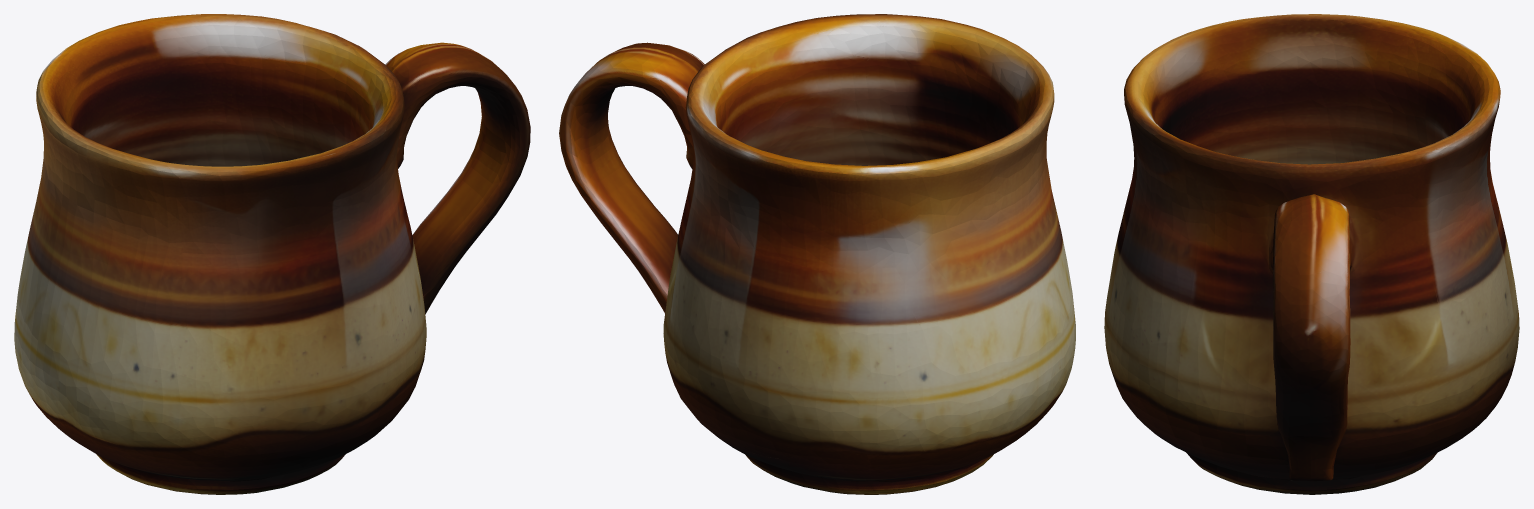
File: ceramic-mug-rustic.jpeg.glb
3 views of the same model, side by side, from view 1: azimuth 30°, elevation 25°; view 2: azimuth 150°, elevation 25°; view 3: azimuth 270°, elevation 25° (orthographic).
Parts seen in each view (by area): view 1: world; view 2: world; view 3: world.
Part boxes in pixels (x1,y1,x2,y2): world: [14, 14, 530, 494]; world: [559, 14, 1075, 494]; world: [1104, 14, 1519, 494].
Size of the model in its own units: 0.9984 by 0.7161 by 0.7514.
Materials: 1 (1 with a texture image).
